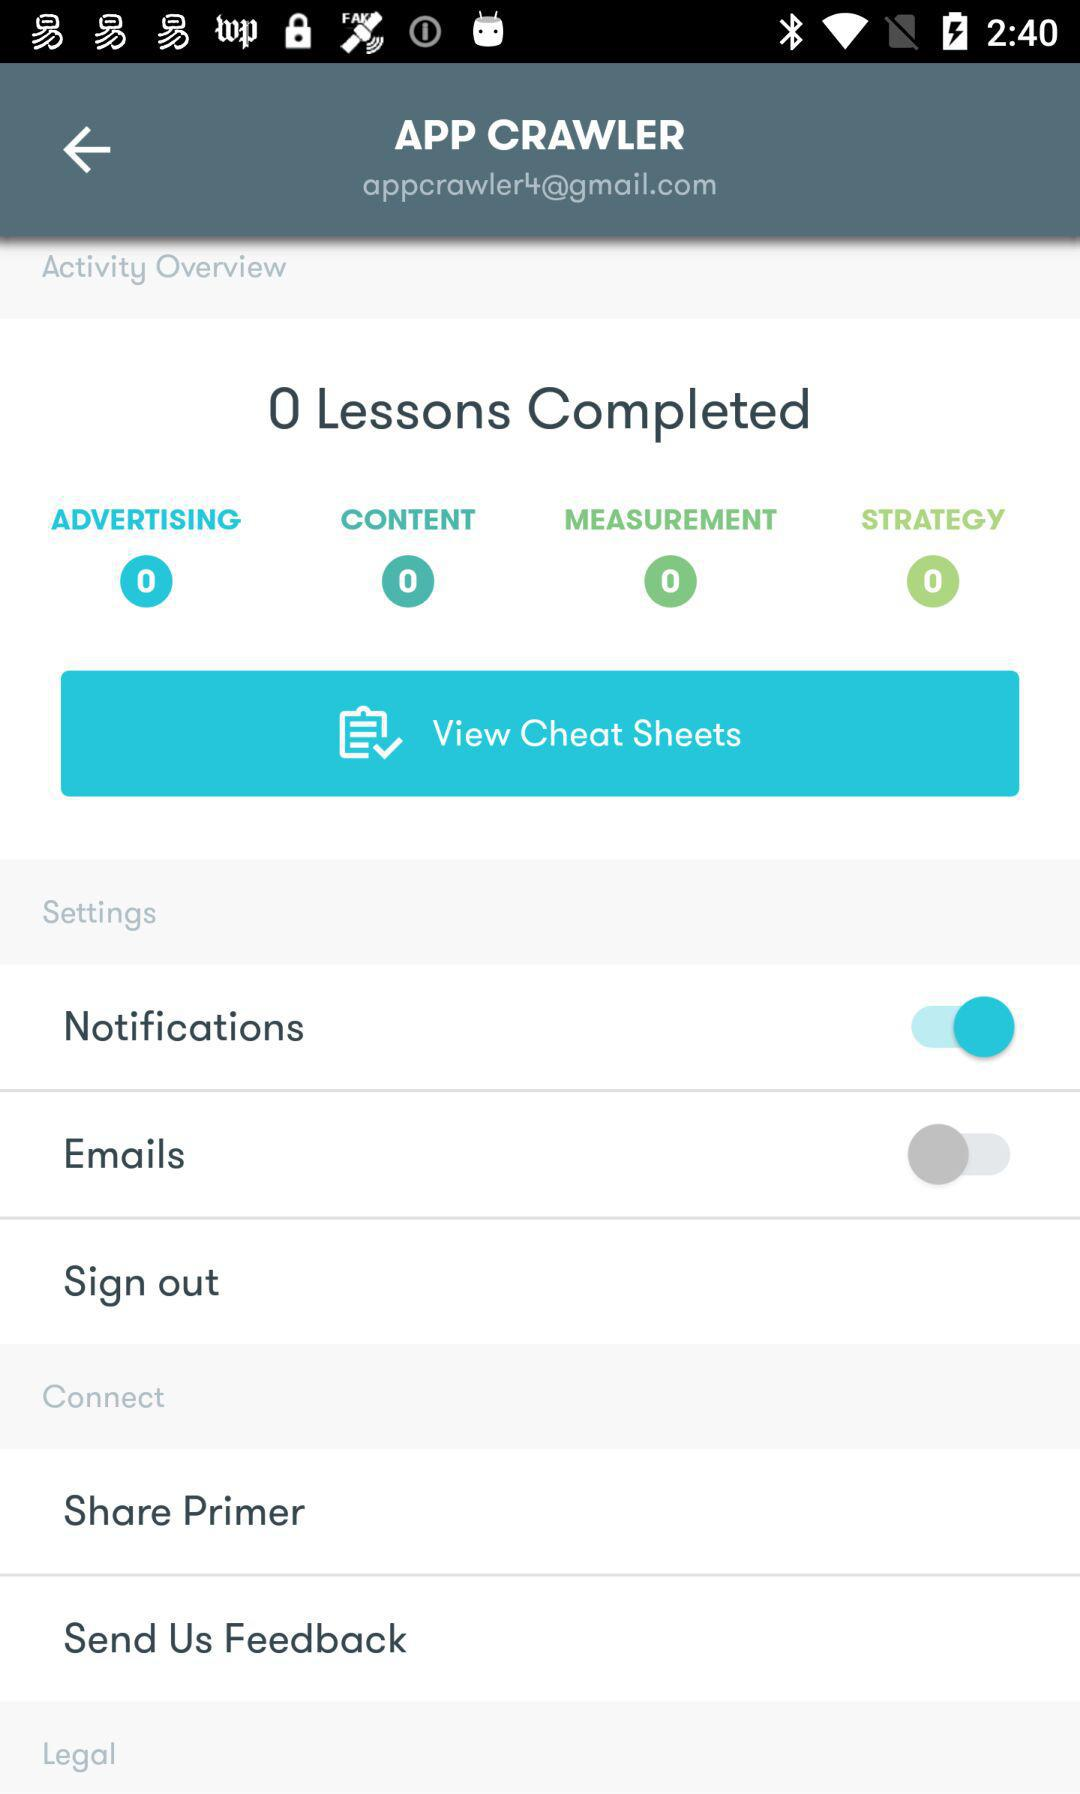Icon: (61, 126, 114, 177)
Image: (120, 555, 174, 609), (382, 555, 436, 609), (644, 555, 698, 609), (906, 555, 960, 609)
Switch: (910, 994, 1016, 1060), (907, 1123, 1012, 1187)
Text: (269, 386, 808, 445), (363, 170, 717, 206), (64, 1621, 409, 1654), (395, 118, 687, 152), (42, 252, 290, 287), (64, 1493, 307, 1527), (65, 1008, 305, 1043), (65, 1263, 222, 1310), (565, 507, 778, 532), (51, 509, 243, 532), (67, 1137, 186, 1170), (44, 900, 158, 933), (861, 507, 1007, 532), (44, 1383, 167, 1410), (341, 507, 477, 532), (44, 1741, 117, 1773)
TextButton: (61, 670, 1020, 798)
UpperTaskBar: (1, 1, 1080, 64)
